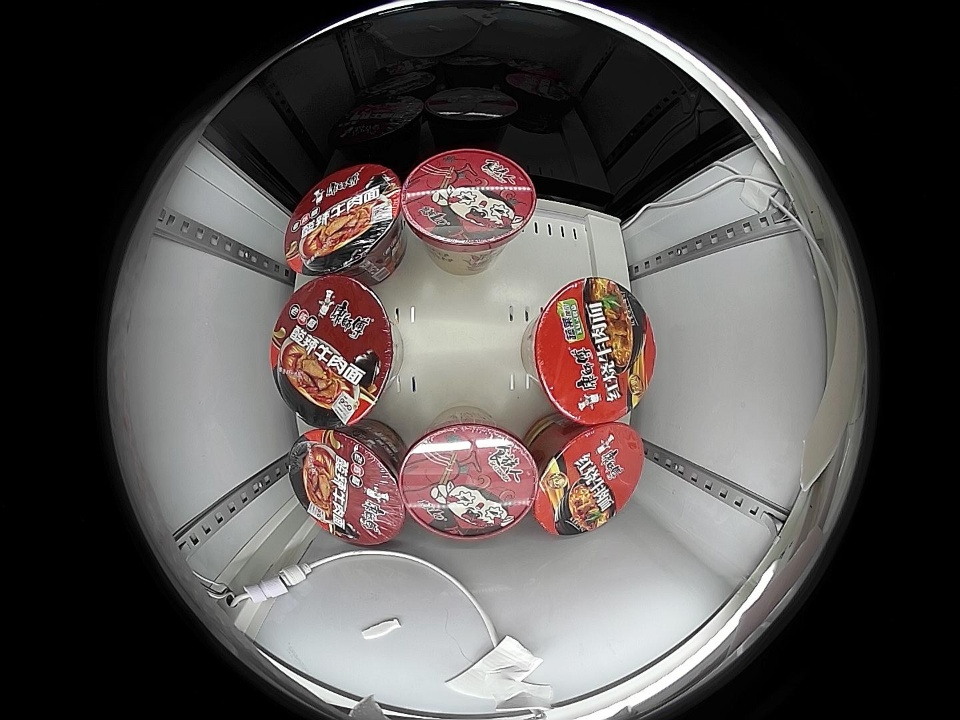hongshaoniurou: (531, 277, 656, 423), (533, 423, 644, 536)
suanlafen: (400, 421, 538, 540), (401, 149, 537, 261)
suanlaniurou: (272, 276, 397, 427), (289, 426, 406, 545), (284, 163, 404, 276)
